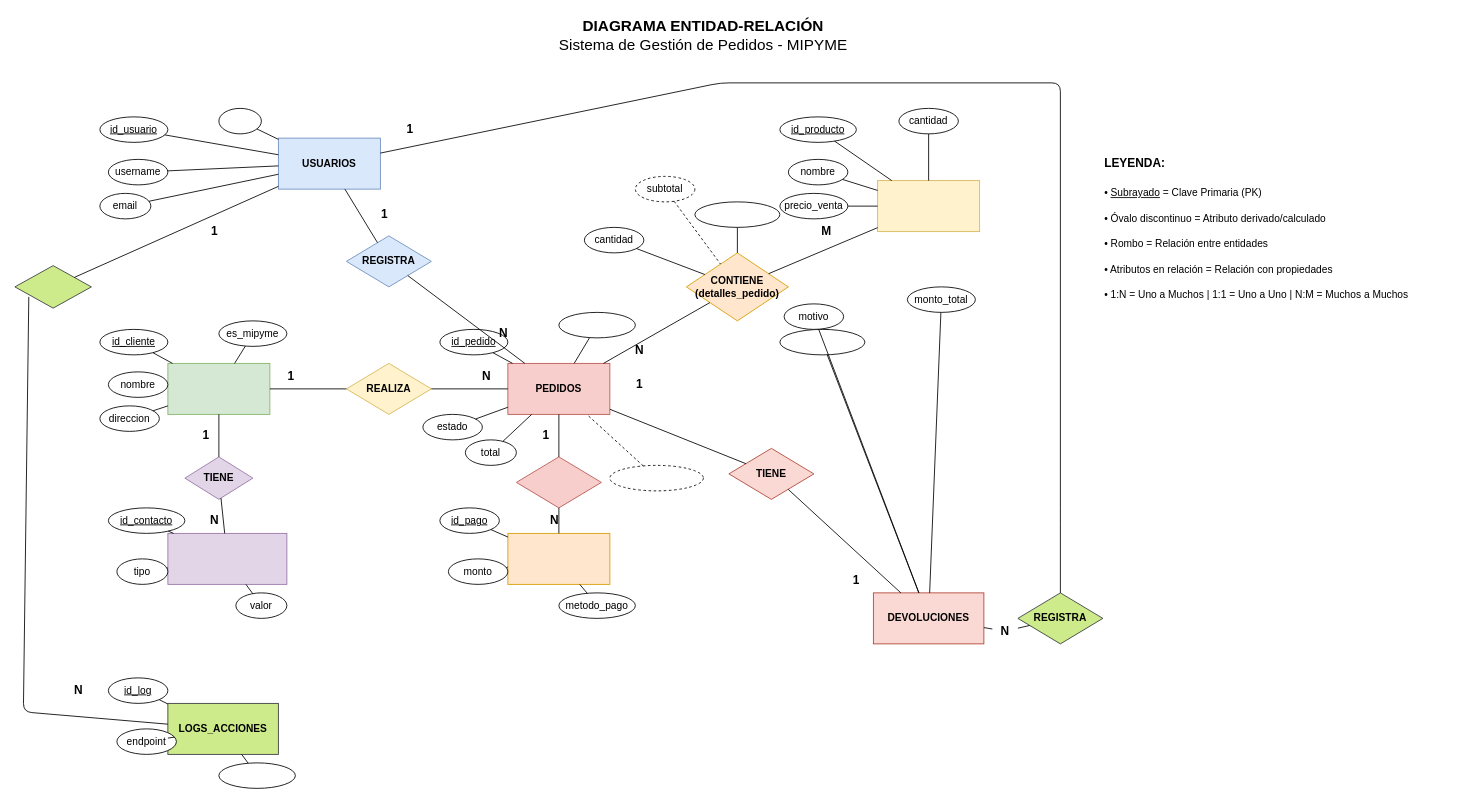
Image size: 1458x803. Some labels were removed from this diagram. Each missing label, with the centre of its shape:
CLIENTES: point 218,388
CONTACTOS_CLIENTES: point 227,558
GENERA: point 52,286
id_devolucion: point 822,342
metodo_http: point 256,775
monto_pendiente: point 656,478
PAGOS: point 558,558
precio_unitario: point 737,214
PRODUCTOS: point 928,206
RECIBE: point 558,482
rol: point 239,121
total_pagado: point 596,325
